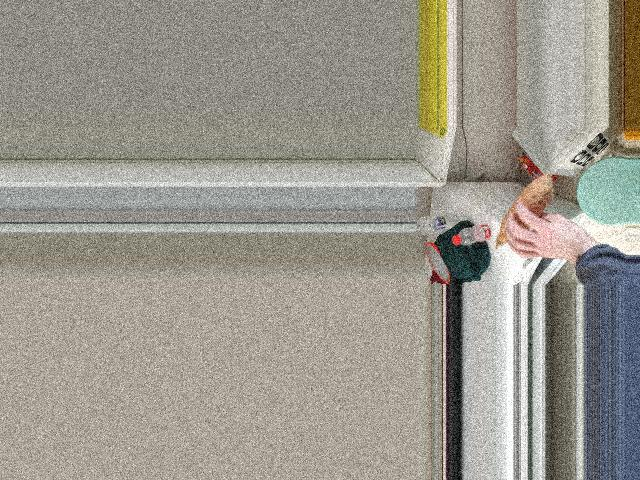sweet_potato: (497, 180, 551, 254)
